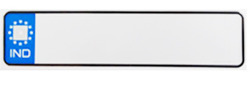inlp: (2, 7, 250, 71)
